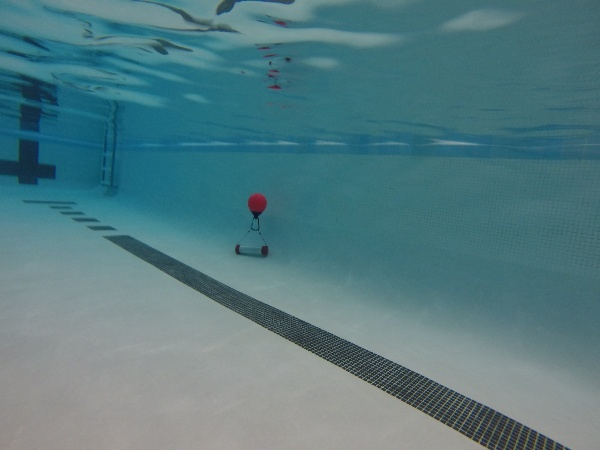buoy_red: (245, 190, 268, 220)
